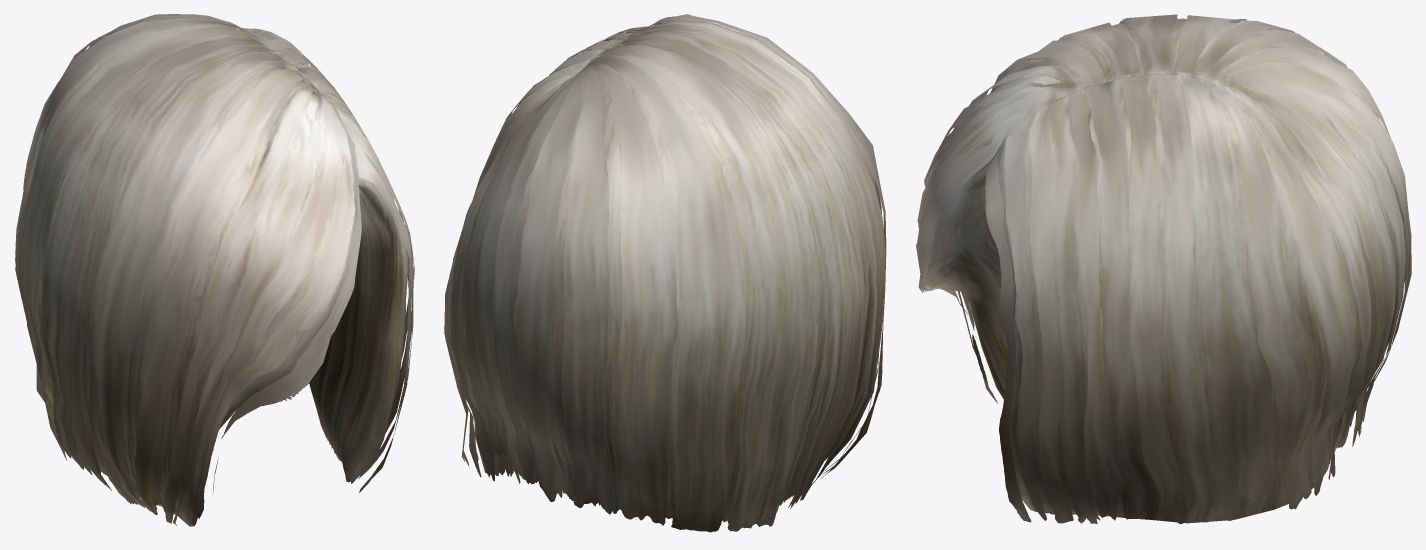
Rendered from mh_bob02.glb.
The picture shows the model from 3 angles, left to right: view 1: azimuth 30°, elevation 25°; view 2: azimuth 150°, elevation 25°; view 3: azimuth 270°, elevation 25°; orthographic projection. The views are drawn at different scales.
Parts seen in each view (by area): view 1: mh_bob02; view 2: mh_bob02; view 3: mh_bob02.
Boxes of the visible parts, x1,y1,x2,y2 form: mh_bob02: (15, 14, 414, 526); mh_bob02: (444, 14, 886, 532); mh_bob02: (916, 14, 1411, 523).
Bounding box in the file's own units: 0.2002 × 0.2556 × 0.2507.
1 material, 1 textured.
